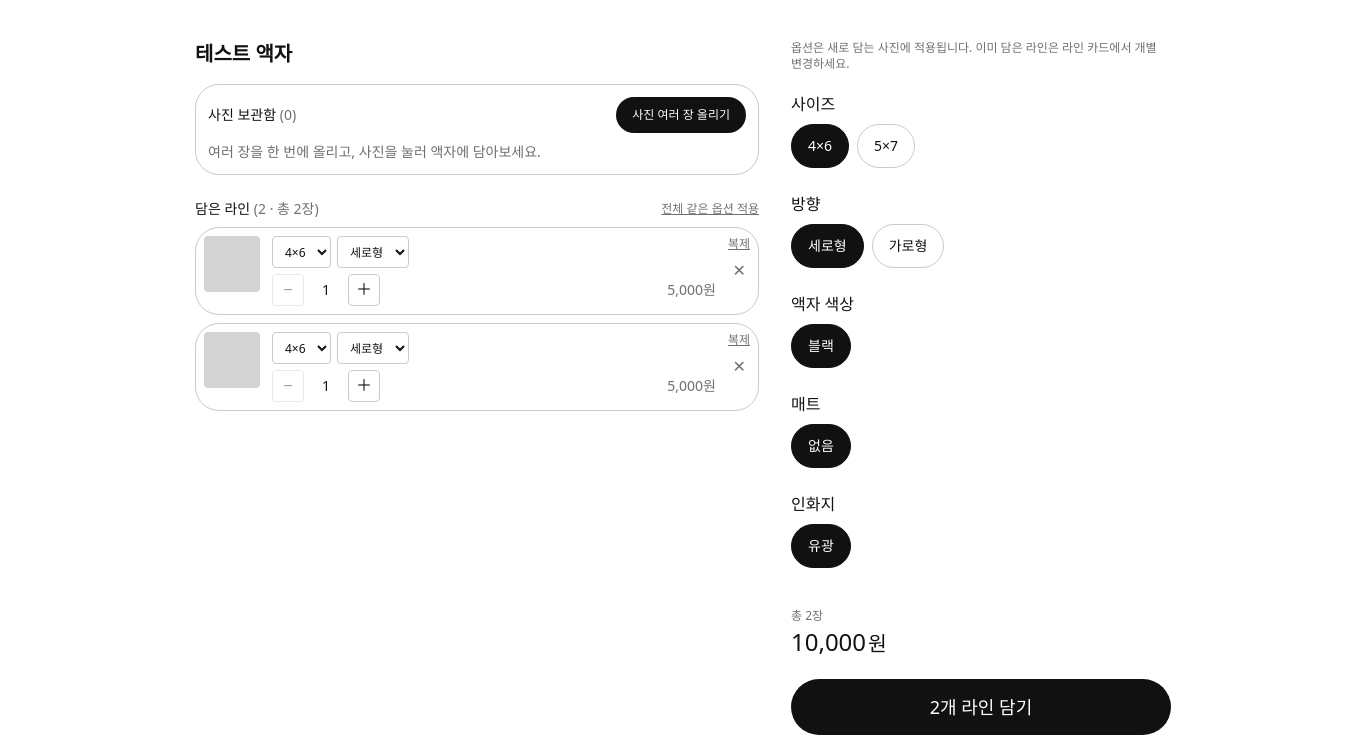
it: StudioClient — 확장형(멀티포토) 편집기 (FS-P1-03, ADR-025) › 라인 옵션(사이즈) 변경 시 라인 소계와 합계가 갱신된다
Expected: the 1st text with test id "line-subtotal" reads "5,000원", [667,280,716,300]
Select "5×7" in the 1st dropdown with test id "line-size-select": [302, 252] box [272,236,331,268]
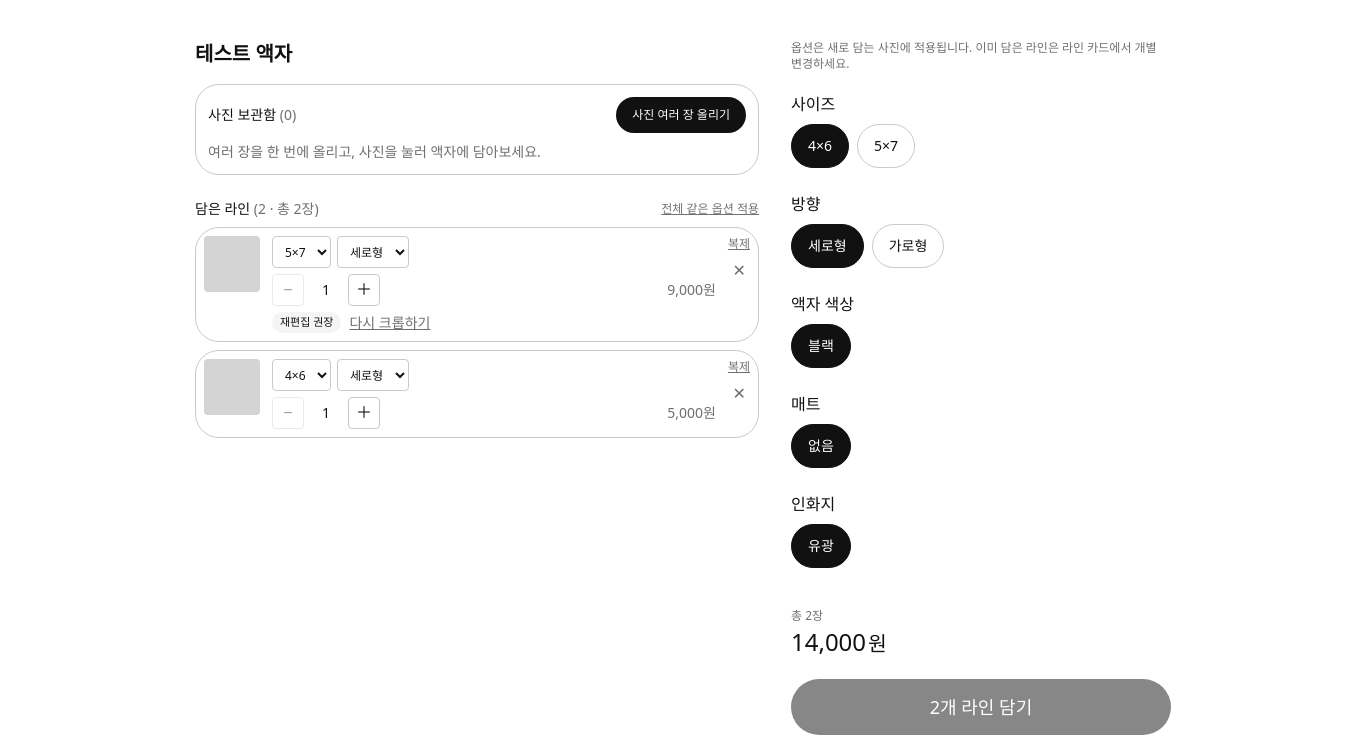
Expected: the text with test id "line-subtotal" reads "9,000원", [667,280,716,300]
Expected: the text "14,000" is shown, [791,625,866,658]
Expected: the number of elements with test id "recrop-badge" is 1, [272,312,430,333]
